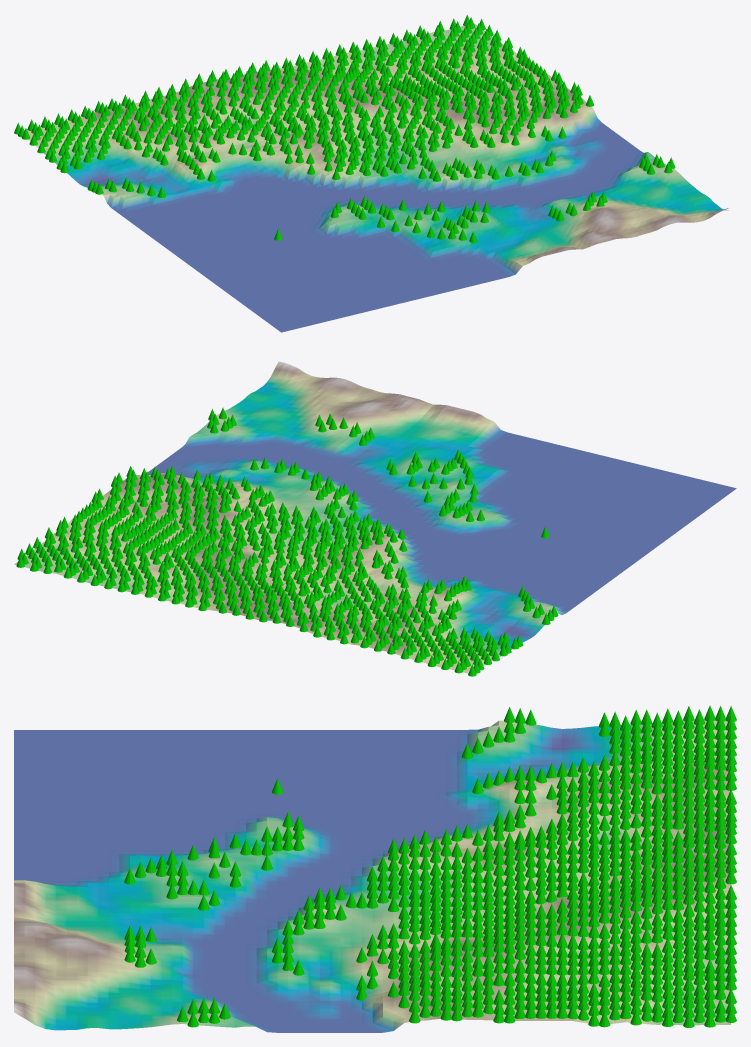
The model's file is 003174_with_tree.glb.
3 renders of one model, top to bottom at view 1: azimuth 30°, elevation 25°; view 2: azimuth 150°, elevation 25°; view 3: azimuth 270°, elevation 25°, orthographic. The views are drawn at different scales.
Parts seen in each view (by area): view 1: terrain, trees; view 2: terrain, trees; view 3: terrain, trees.
Part boxes in pixels (x1=…): terrain: x1=27, y1=23, x2=729, y2=332; trees: x1=14, y1=15, x2=675, y2=243; terrain: x1=14, y1=361, x2=736, y2=673; trees: x1=16, y1=407, x2=558, y2=676; terrain: x1=14, y1=719, x2=730, y2=1032; trees: x1=124, y1=705, x2=736, y2=1027.
Bounding box in the file's own units: 0.0186 × 0.000905 × 0.0185.
